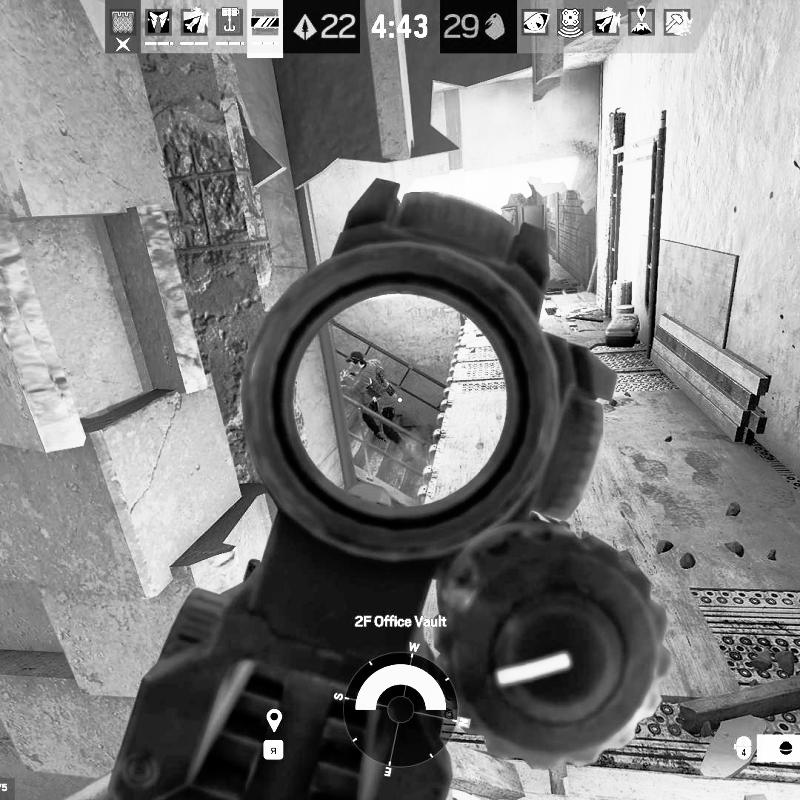Character: (338, 350, 416, 463)
Head: (346, 352, 366, 370)
